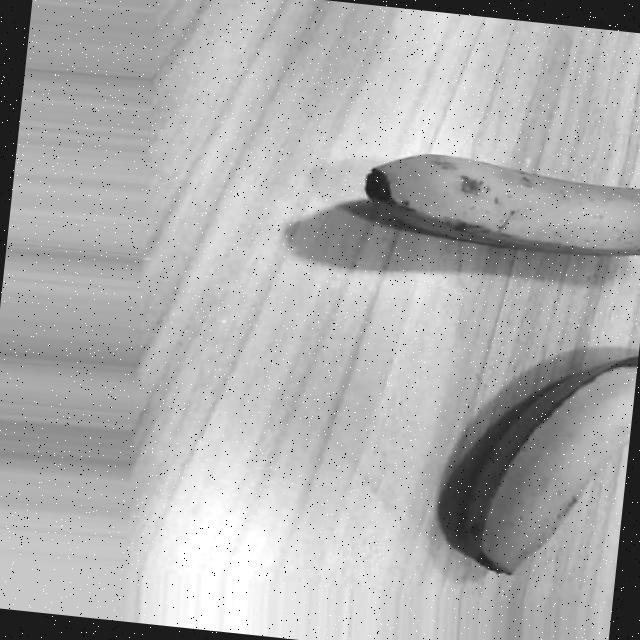Unripe: (444, 335, 638, 587), (361, 146, 640, 264)
